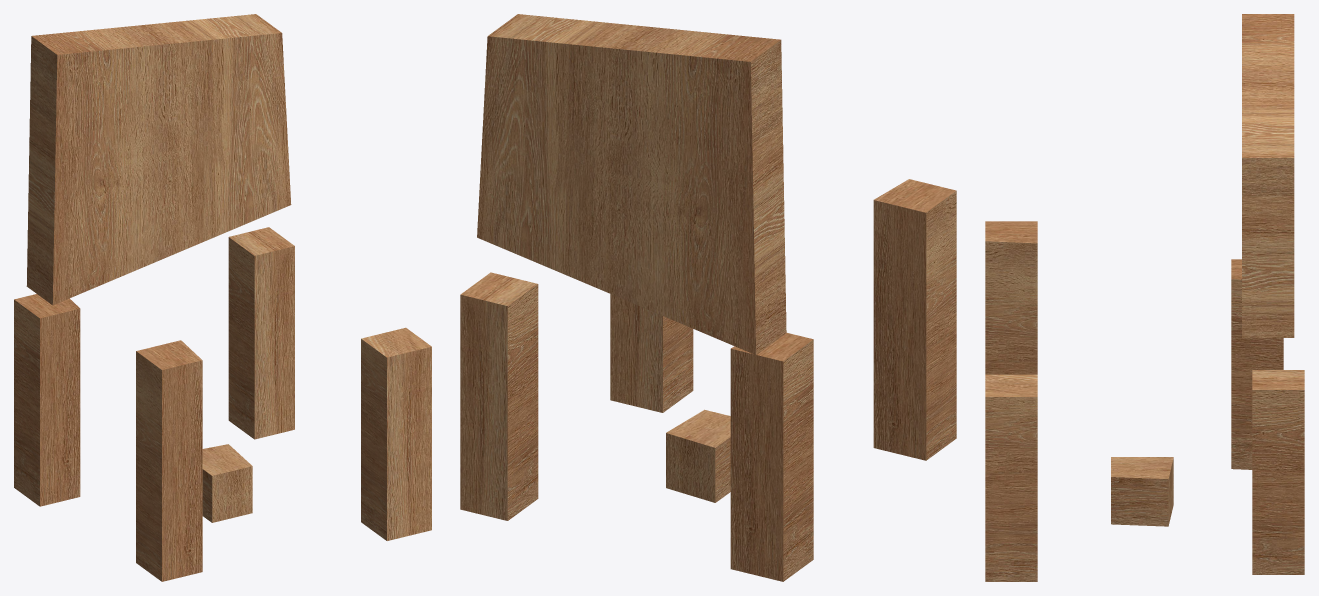
Rendered from 3319_deepcad-end2end.glb.
3 renders of one model, left to right at view 1: azimuth 30°, elevation 25°; view 2: azimuth 150°, elevation 25°; view 3: azimuth 270°, elevation 25°, orthographic. The views are drawn at different scales.
Parts seen in each view (by area): view 1: test_cmd_3319_pred; view 2: test_cmd_3319_pred; view 3: test_cmd_3319_pred.
Boxes of the visible parts, x1,y1,x2,y2 form: test_cmd_3319_pred: [14, 14, 431, 581]; test_cmd_3319_pred: [460, 14, 956, 581]; test_cmd_3319_pred: [985, 14, 1304, 581].
Size of the model in its own units: 0.6383 by 1 by 0.6489.
1 material, 1 textured.
